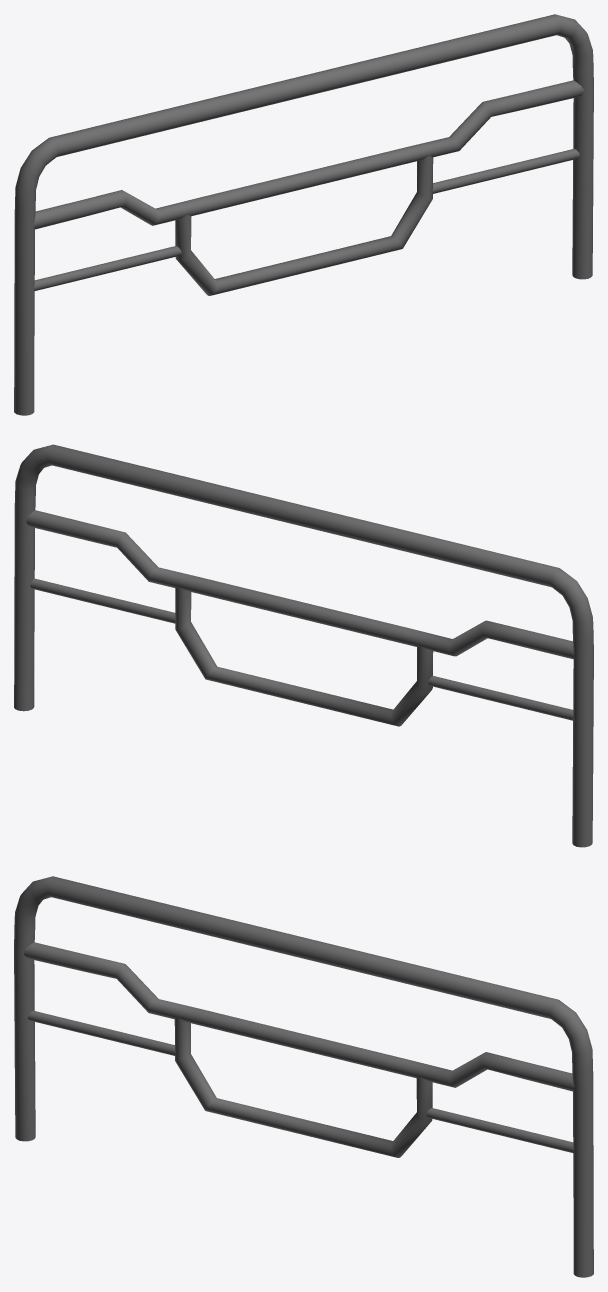
Rendered from sf_railing_2.glb.
3 renders of one model, top to bottom at view 1: azimuth 30°, elevation 25°; view 2: azimuth 150°, elevation 25°; view 3: azimuth 330°, elevation 25°, orthographic.
Parts seen in each view (by area): view 1: Prop_Rail_2; view 2: Prop_Rail_2; view 3: Prop_Rail_2.
Boxes of the visible parts, x1,y1,x2,y2 form: Prop_Rail_2: (14,14,593,415); Prop_Rail_2: (14,444,593,847); Prop_Rail_2: (14,876,593,1277).
Bounding box in the file's own units: 1.95 × 0.8621 × 0.0666.
Materials: 1 (1 with a texture image).
